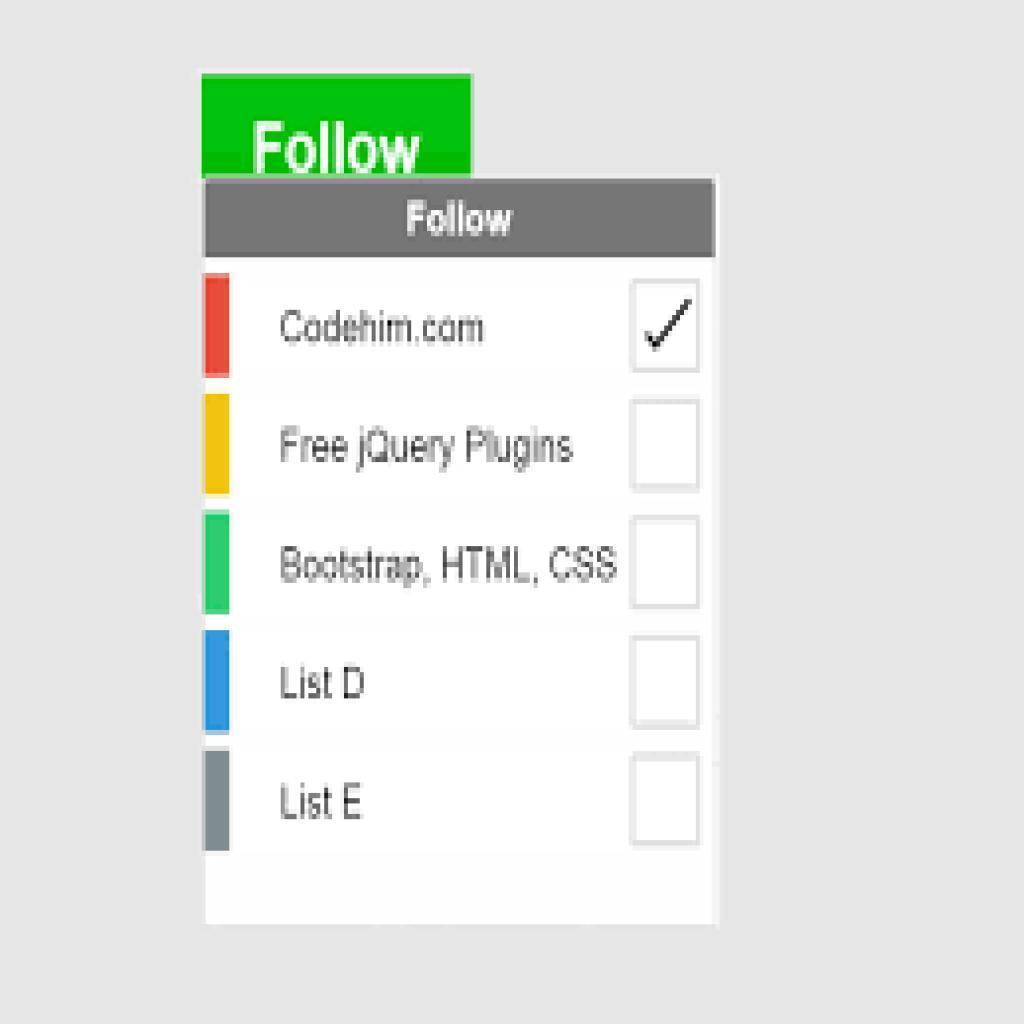checkbox: (628, 751, 702, 848), (628, 277, 703, 372), (627, 514, 701, 609), (630, 398, 701, 496), (629, 637, 702, 728)
label: (277, 539, 619, 588), (276, 419, 574, 474), (272, 303, 486, 351), (271, 657, 374, 710), (274, 776, 365, 829)
